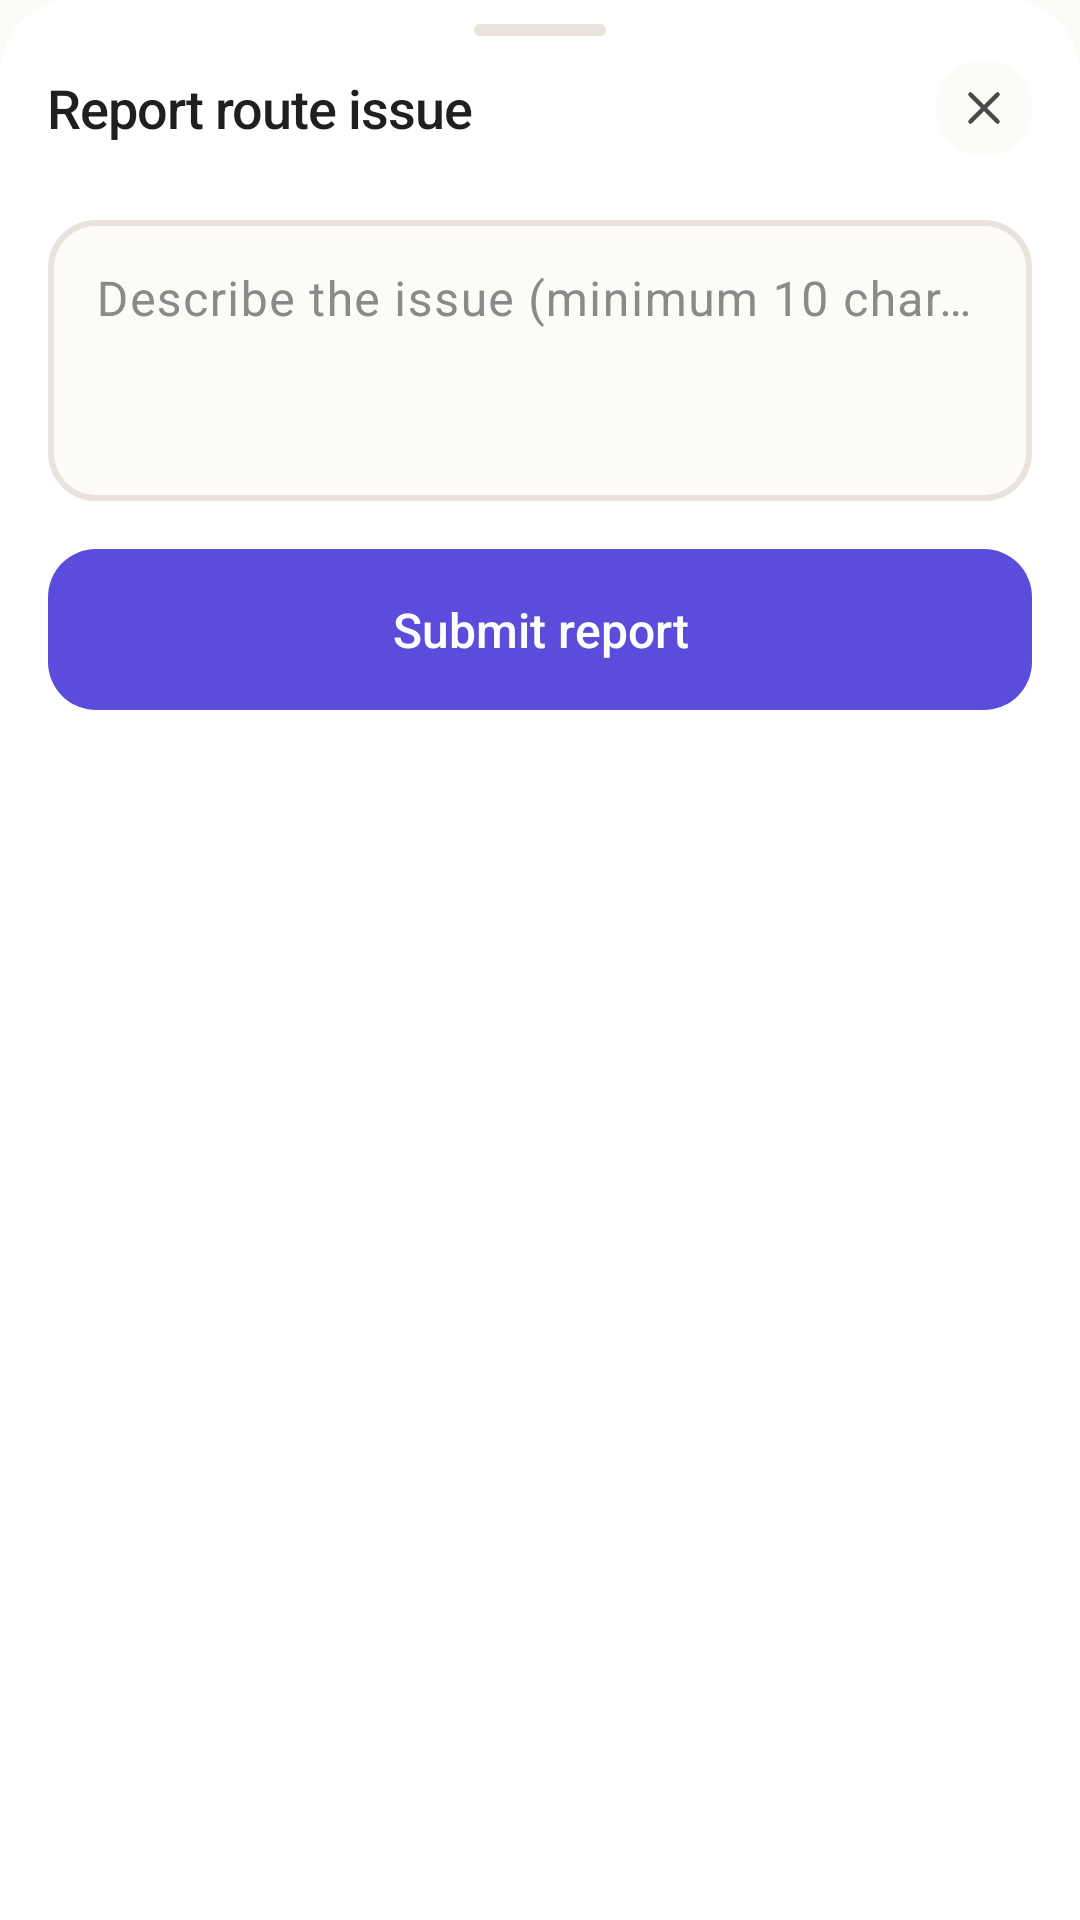

Named icons in this screenshot (1080 x 1920) and their bounding boxes, rect(x1, y1, x2, y2):
Close: rect(968, 92, 1000, 124)
